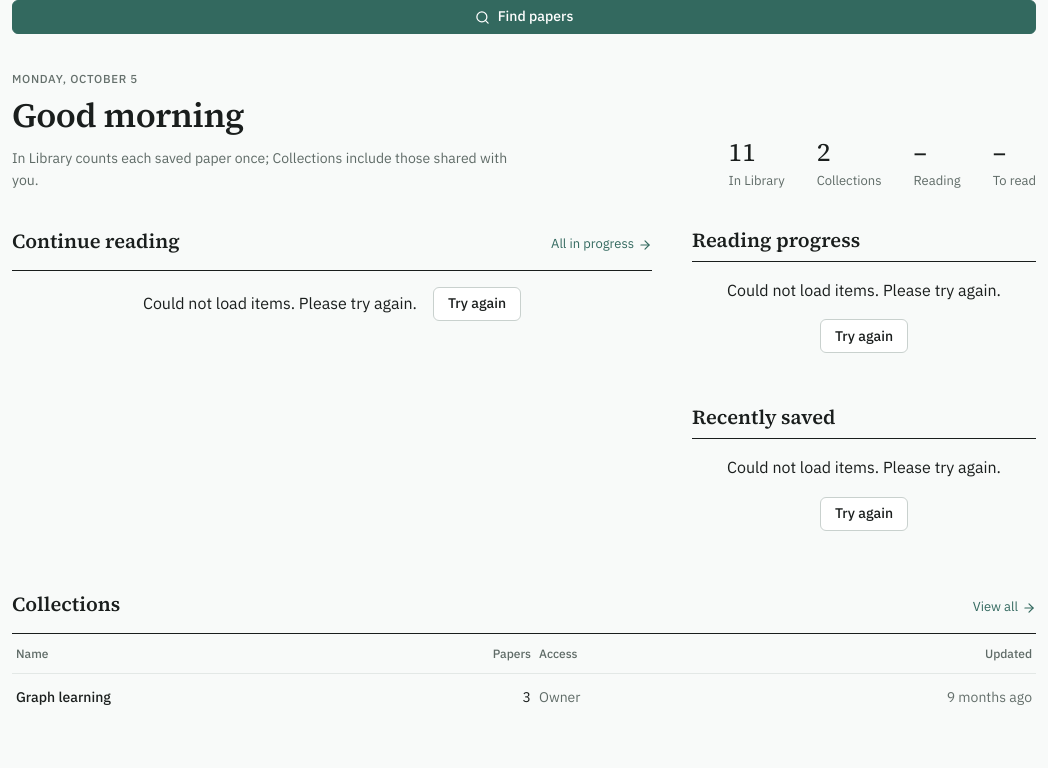
DashboardPage › offers a retry instead of empty sections when the Library queries fail
Click the button "Try again" below "Continue reading" at (477, 304), box [433,287,521,321]
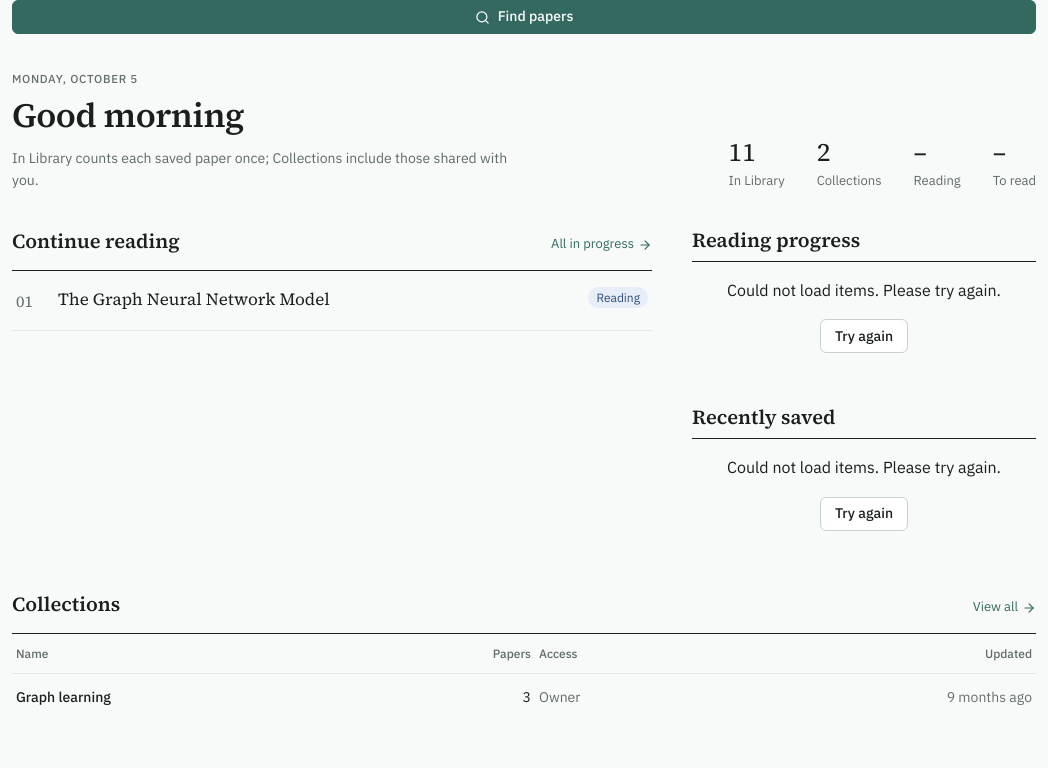
Expected: the link "The Graph Neural Network Model" is shown, [58,287,330,311]
